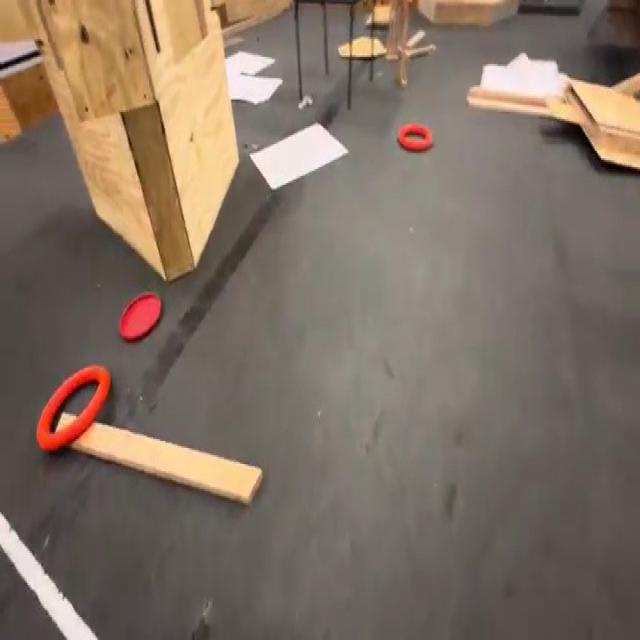note: (34, 366, 110, 452), (398, 122, 435, 153)
